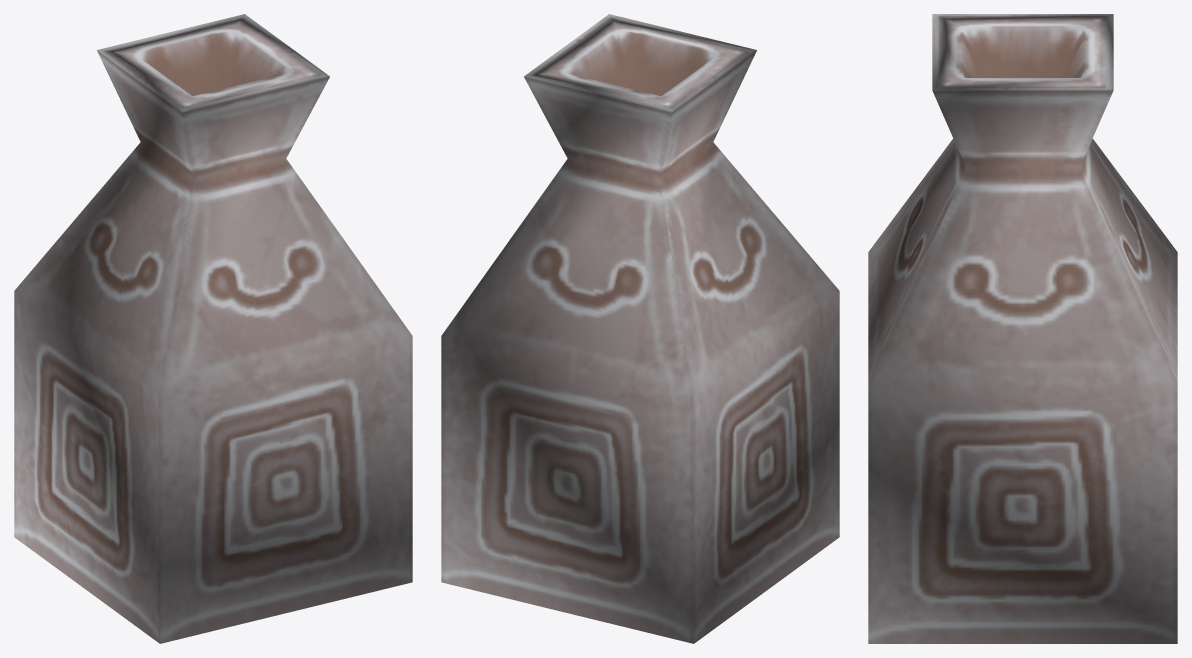
File: Asset_Vase_A_01.fbx
3 views of the same model, side by side, from view 1: azimuth 30°, elevation 25°; view 2: azimuth 150°, elevation 25°; view 3: azimuth 270°, elevation 25° (orthographic). The views are drawn at different scales.
Parts seen in each view (by area): view 1: Asset_Vase_A_01; view 2: Asset_Vase_A_01; view 3: Asset_Vase_A_01.
Part boxes in pixels (x1=…): Asset_Vase_A_01: x1=14, y1=14, x2=412, y2=643; Asset_Vase_A_01: x1=441, y1=14, x2=839, y2=643; Asset_Vase_A_01: x1=868, y1=14, x2=1177, y2=643.
Size of the model in its own units: 270 by 507 by 270.
